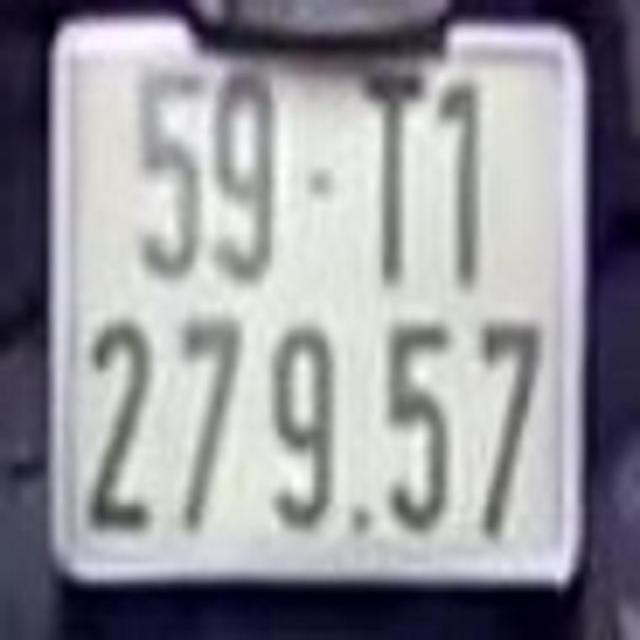1: (439, 73, 476, 289)
2: (80, 317, 156, 522)
5: (131, 67, 202, 279), (380, 324, 455, 524)
7: (178, 314, 240, 537), (484, 314, 543, 546)
9: (262, 318, 341, 532), (213, 67, 278, 272)
T: (362, 66, 424, 281)
